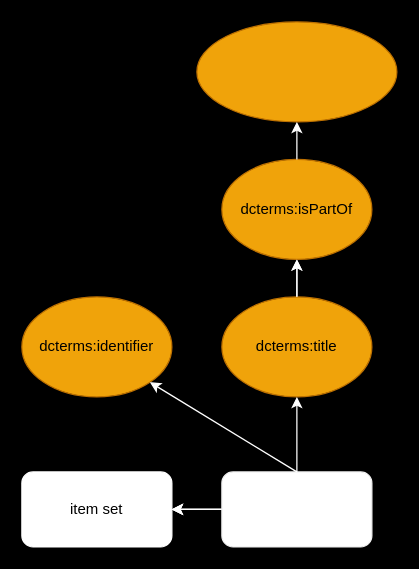
Image size: 419x569. Some labels were removed from this diagram. Here are the shapes that lost their labels. From the top down, the centre of each, then its label:
[296,71]: crm:P135i_was_created_by
[296,509]: item
